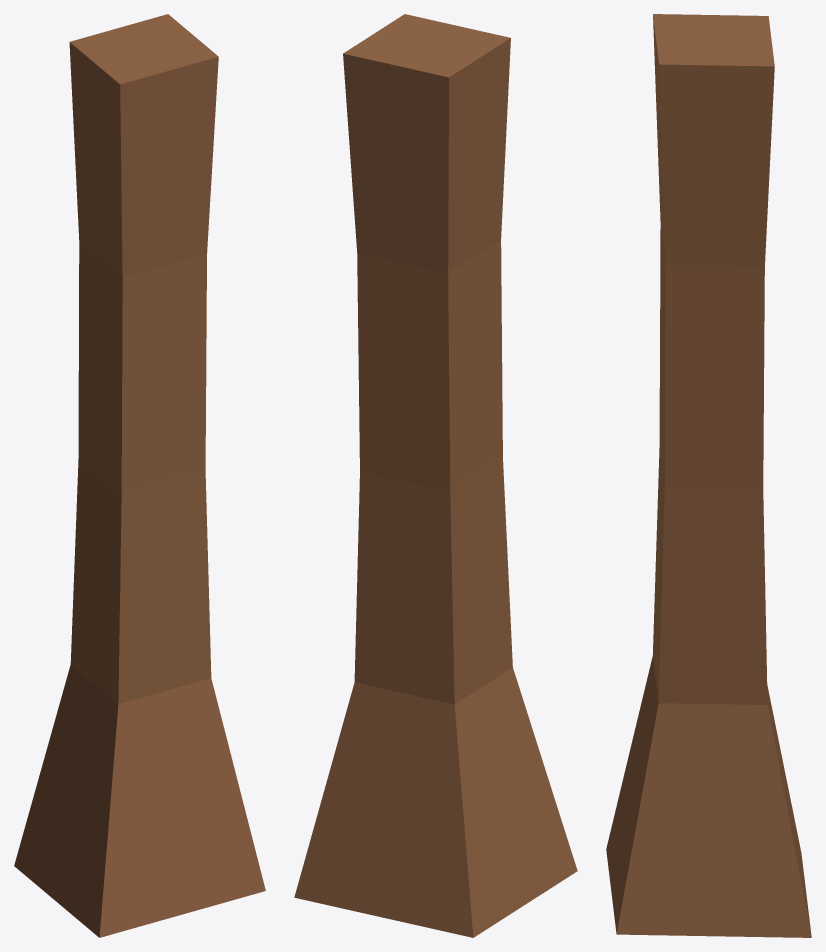
File: tree-summer-trunk-044.glb
The picture shows the model from 3 angles, left to right: view 1: azimuth 30°, elevation 25°; view 2: azimuth 150°, elevation 25°; view 3: azimuth 270°, elevation 25°; orthographic projection. The views are drawn at different scales.
Visible parts, largest first — view 1: Cube.008_308; view 2: Cube.008_308; view 3: Cube.008_308.
Part boxes in pixels (x1=…): Cube.008_308: x1=14, y1=14, x2=265, y2=937; Cube.008_308: x1=294, y1=14, x2=577, y2=937; Cube.008_308: x1=606, y1=14, x2=811, y2=937.
Bounding box in the file's own units: 0.1988 × 0.8734 × 0.1895.
